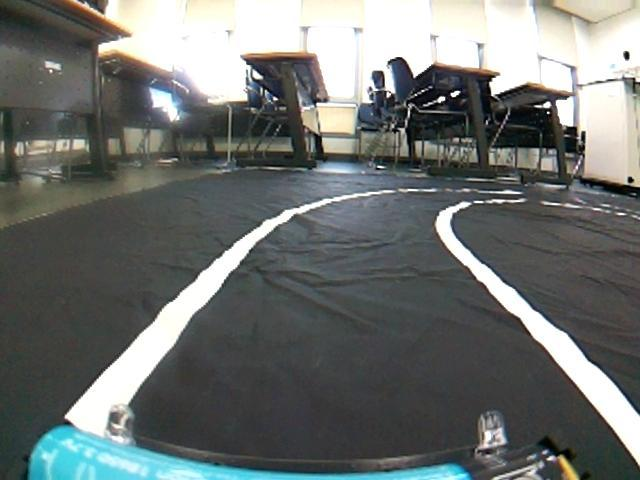straight: (5, 227, 640, 477)
